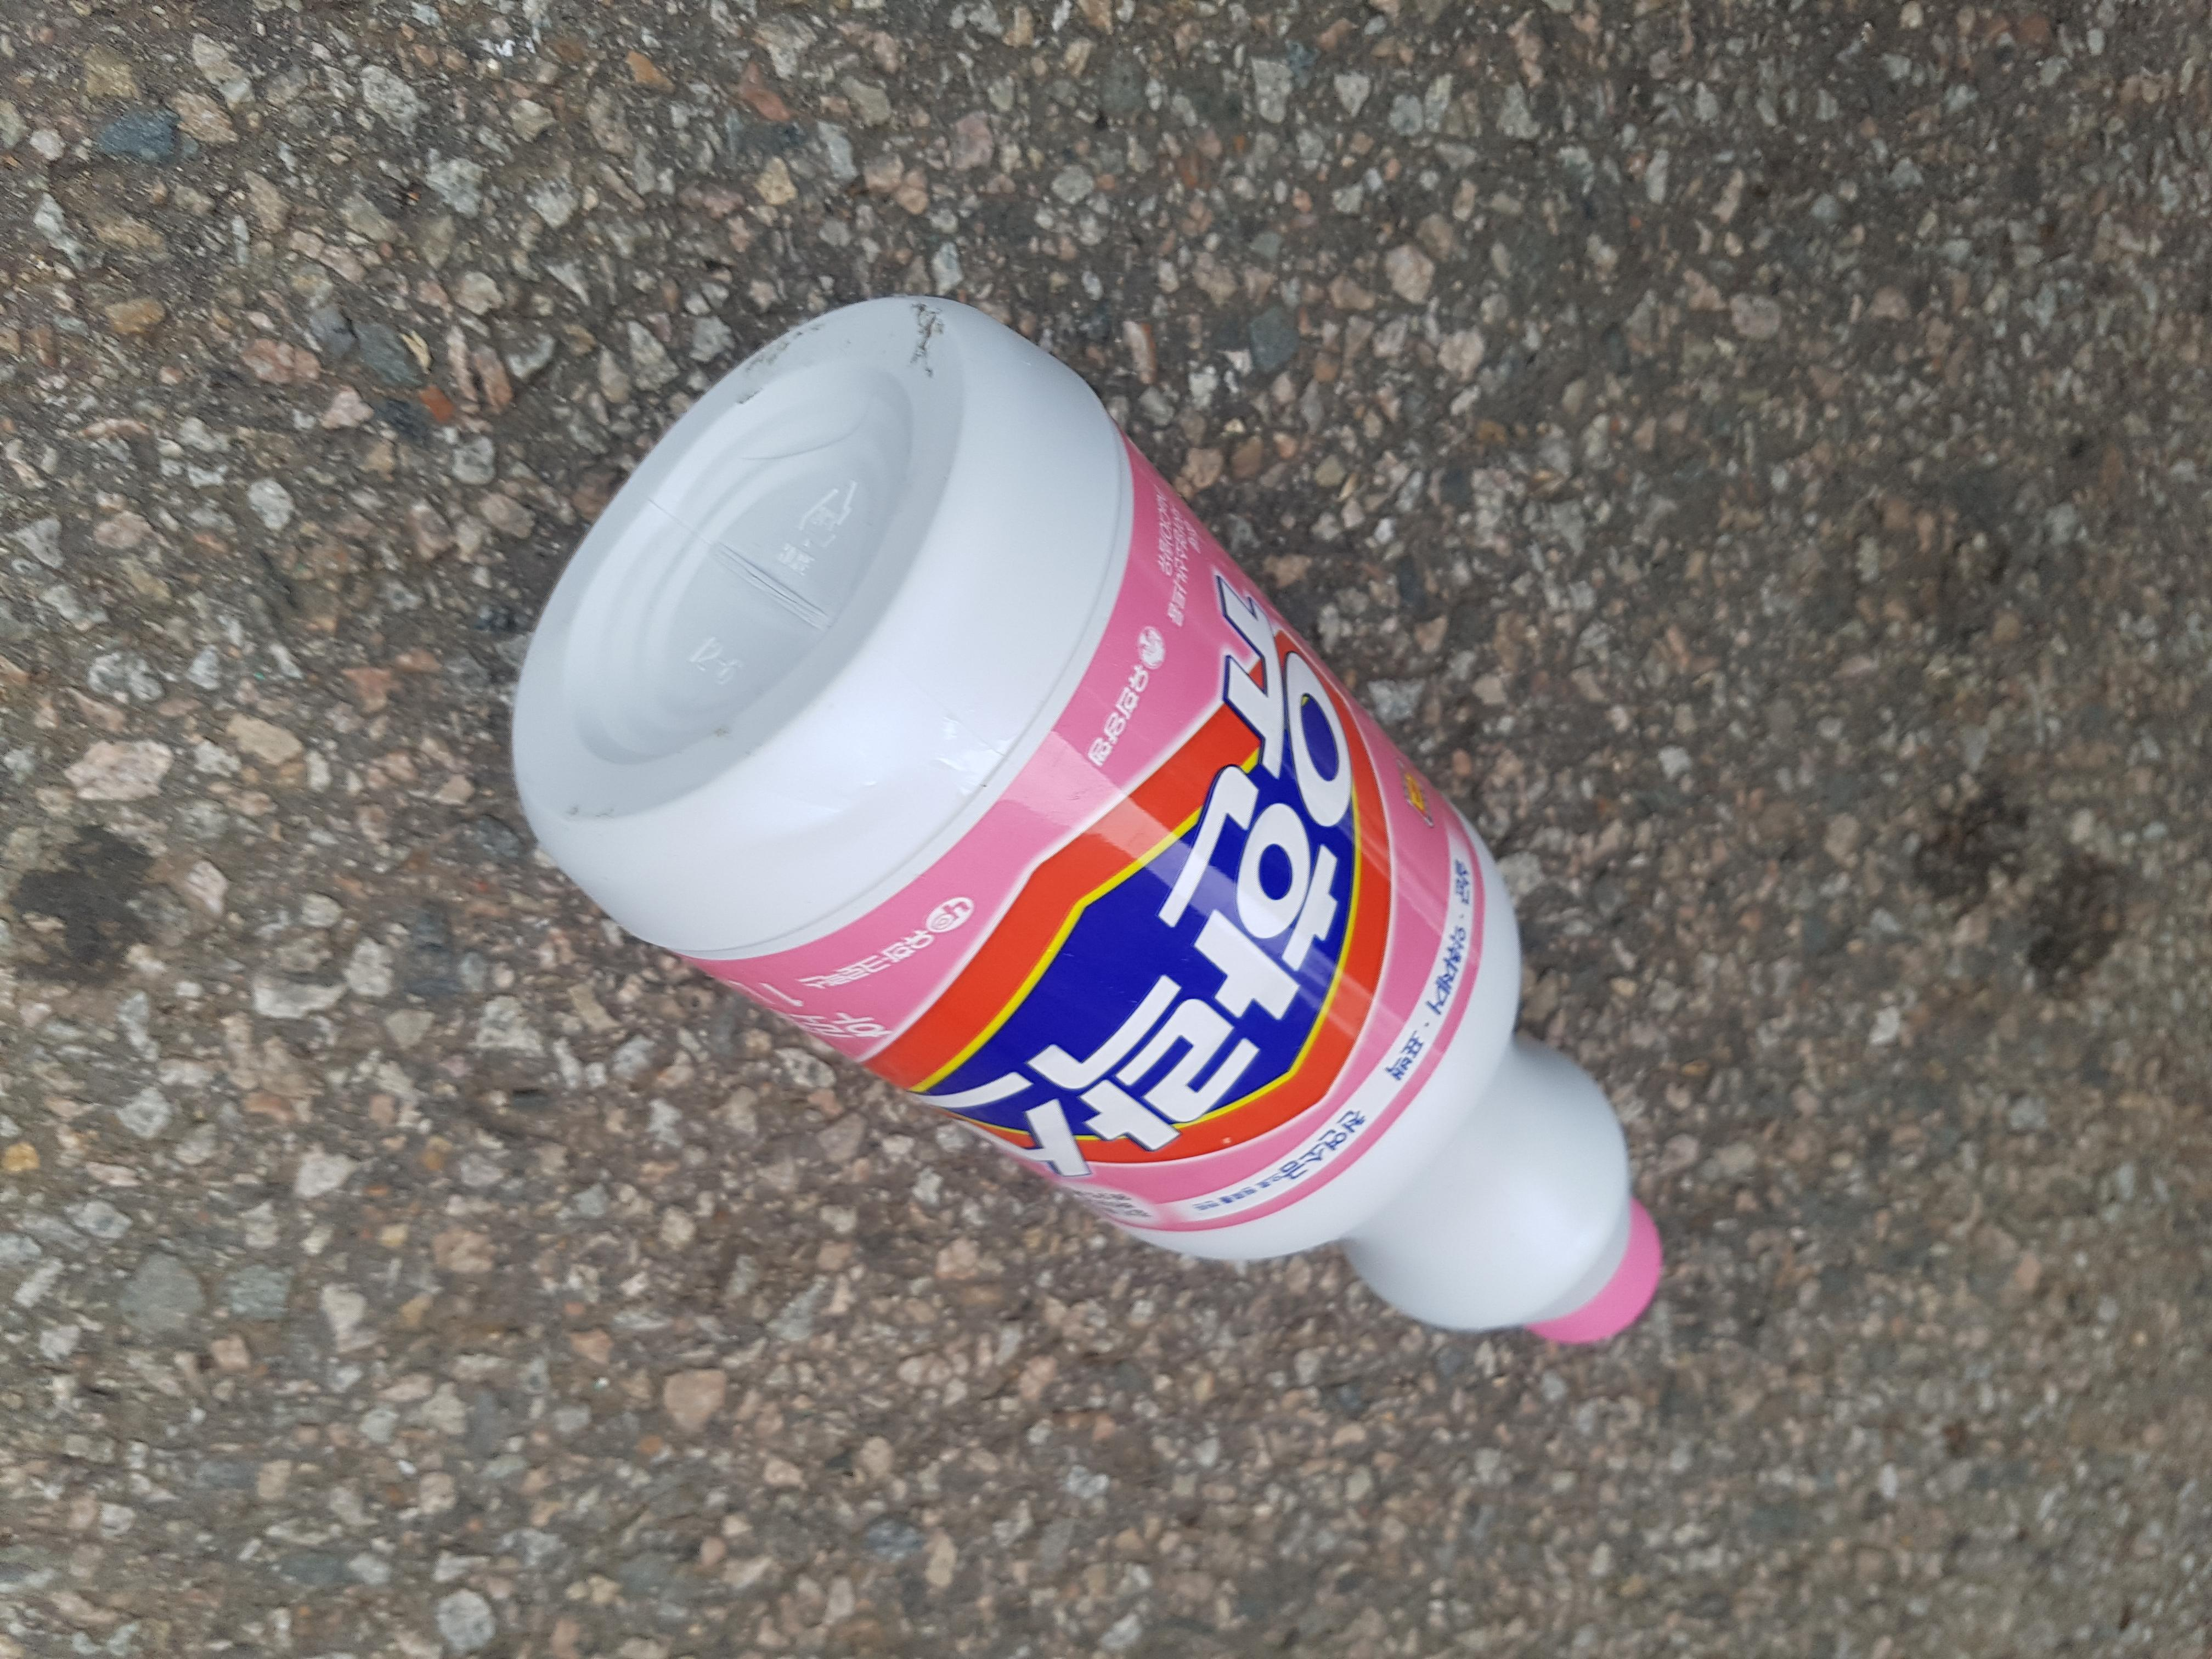bottle: (418, 383, 1878, 1246)
